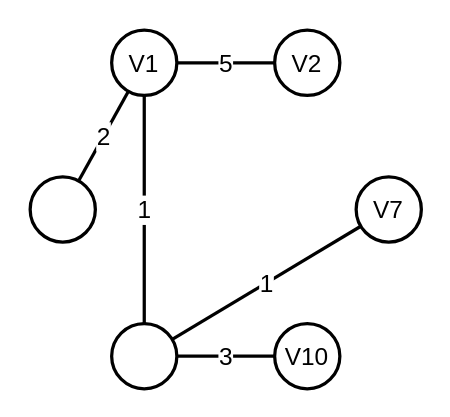
The diagram is 450 pixels wide and 417 high, and some of its shapes have lost their labels. The centre of each missing label's shape, as x and y in pixels:
V8: point 62,208
V9: point 143,355
